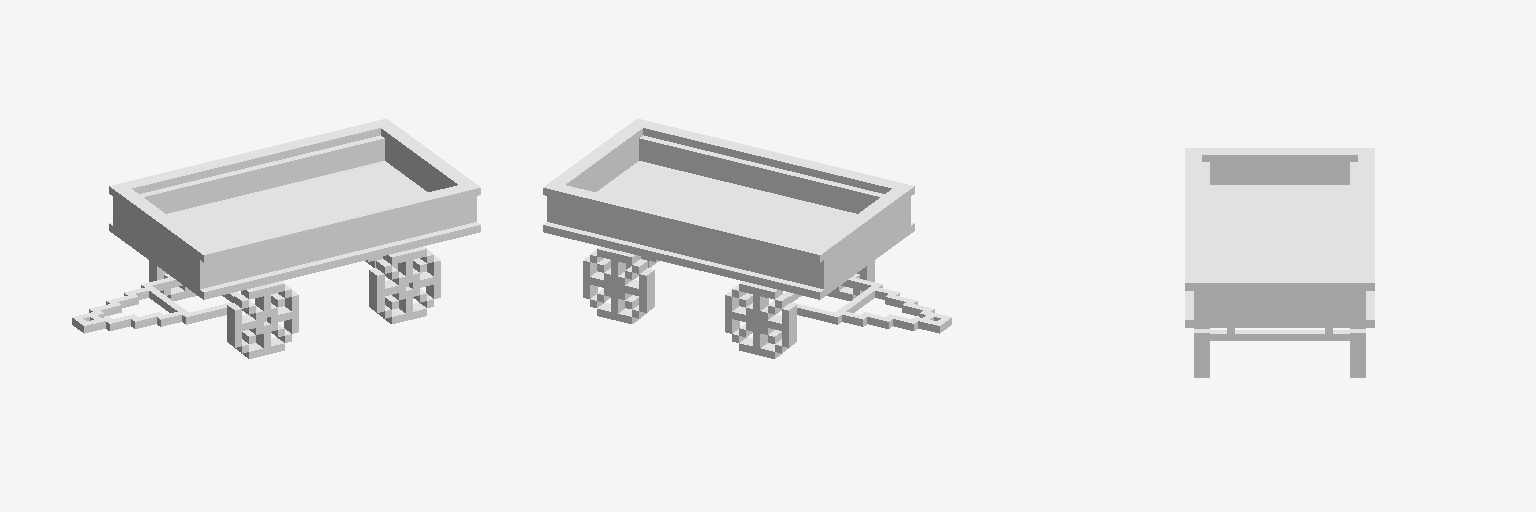
The model's file is Wood_Trolley.obj.
3 renders of one model, left to right at view 1: azimuth 30°, elevation 25°; view 2: azimuth 150°, elevation 25°; view 3: azimuth 270°, elevation 25°, orthographic.
Parts seen in each view (by area): view 1: Wood_Trolley; view 2: Wood_Trolley; view 3: Wood_Trolley.
Boxes of the visible parts, <box> form: Wood_Trolley: <box>72,118,480,358</box>; Wood_Trolley: <box>543,118,951,358</box>; Wood_Trolley: <box>1185,148,1374,377</box>.
Bounding box in the file's own units: 50 × 16 × 23.